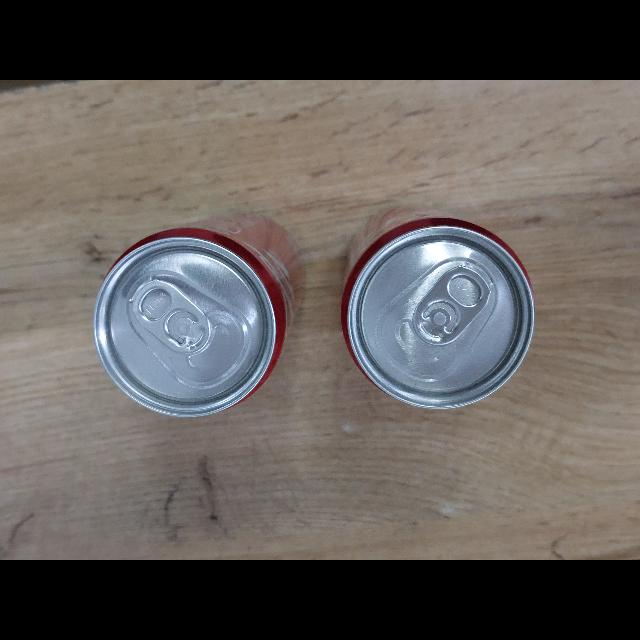coca_cola: (93, 216, 301, 417), (341, 212, 534, 408)
